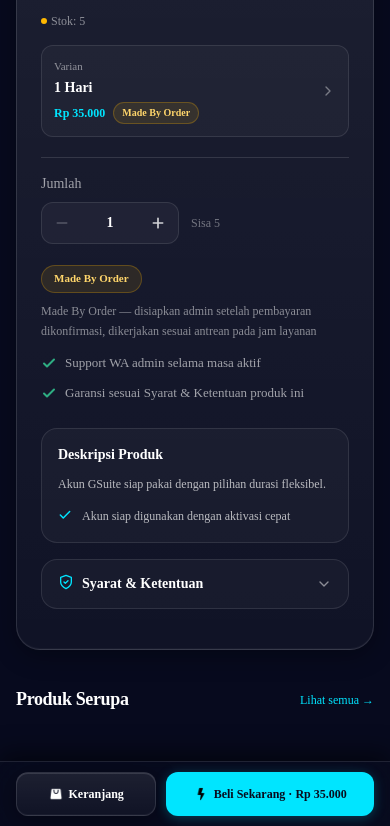
Test: PDP produk non-WR: format yang sama dari deskripsi admin › bagian 'Syarat & Ketentuan:' pindah ke panel S&K dan tidak tampil ganda di deskripsi
(page scrolled)
Click the button "Syarat & Ketentuan": (195, 584) x1=42 y1=560 x2=348 y2=608
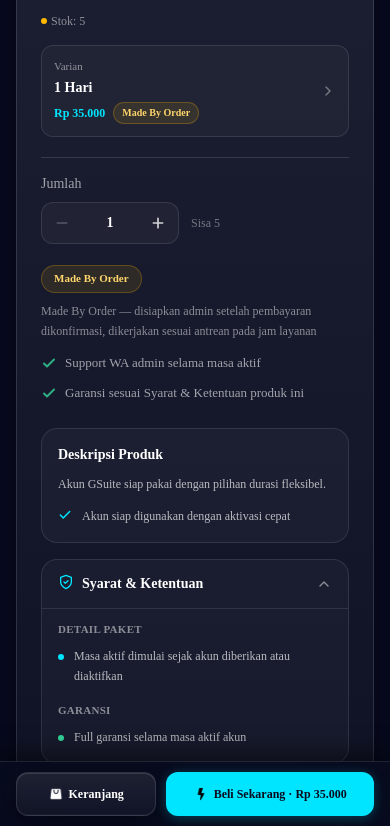
Check: the element with test id "product-description-body" does not show "Full garansi selama masa aktif akun"
Check: the element "Garansi" shows "Full garansi selama masa aktif akun", box x1=74 y1=730 x2=246 y2=744
